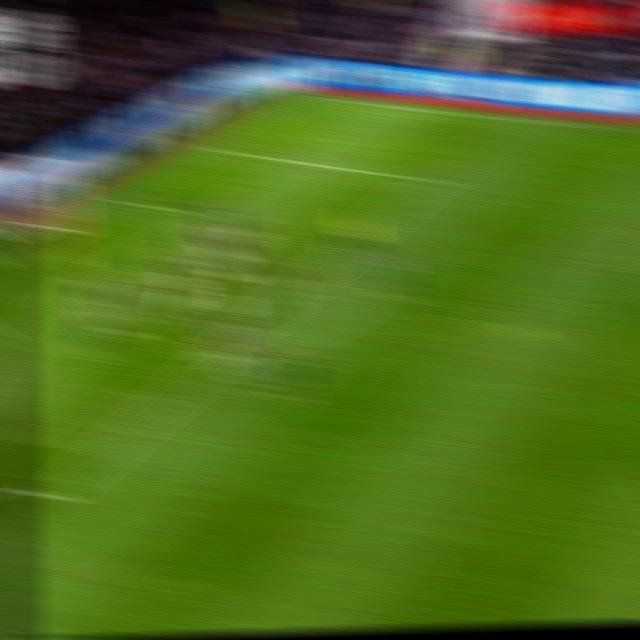bigarea_bottom_inner: (30, 478, 73, 514)
bigarea_top_inner: (411, 167, 447, 192)
bigarea_top_outter: (193, 137, 230, 159)
bottom_arc_area_intersection: (198, 345, 233, 369)
corner: (285, 86, 324, 103)
smallarea_top_inner: (178, 201, 215, 227)
smallarea_top_outter: (105, 189, 142, 210)
top_arc_area_intersection: (327, 237, 363, 260)
